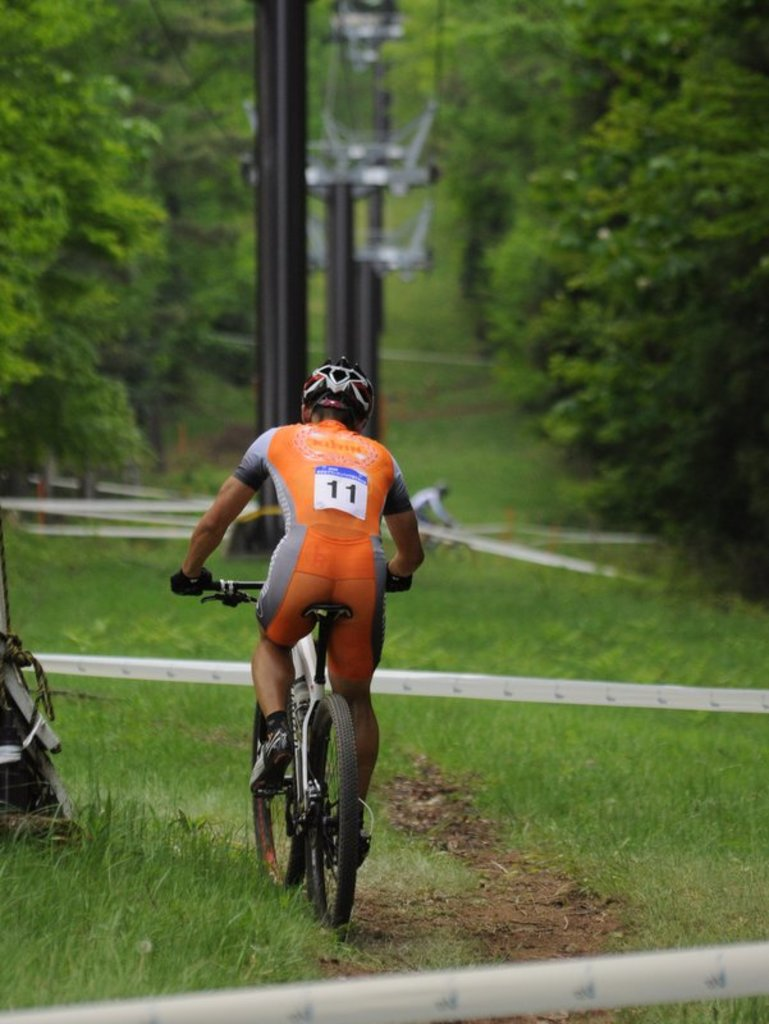Bike_away: (174, 555, 437, 936)
